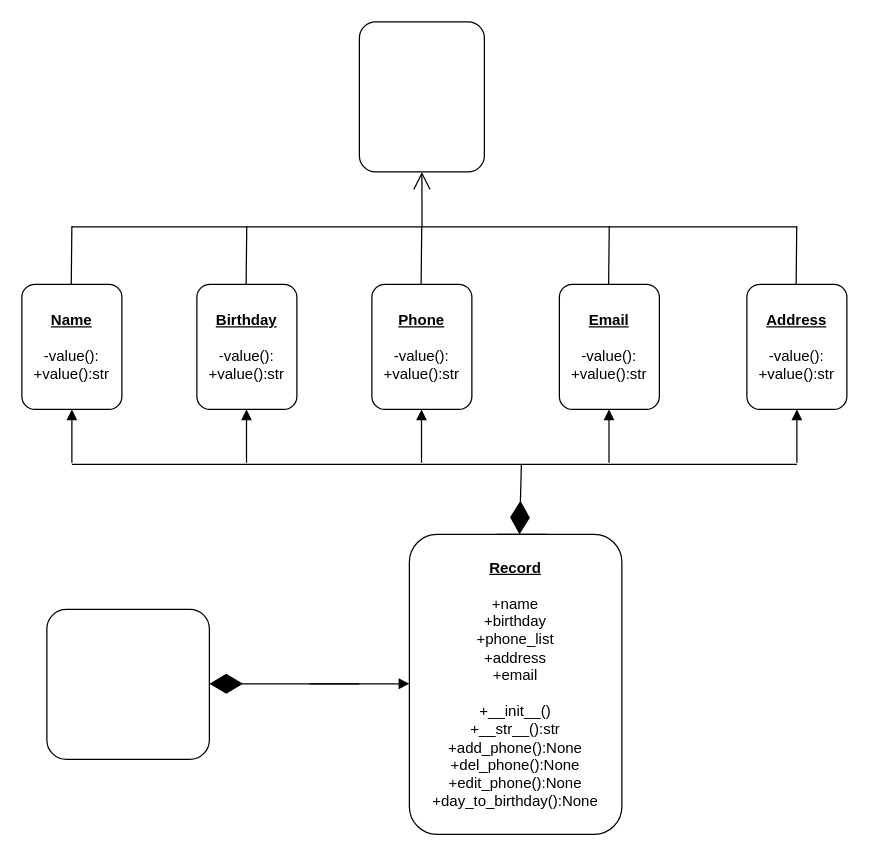
Image size: 869x856. Some labels were removed from this diagram. Here are the shapes that lost their labels. From the top down, the centre of each, then its label:
At pixel 421 96: "Field -value:None +value +__repr__():str +__str__():str".
At pixel 127 683: "AddressBook +data +__str__() +add_record():None +iterator()".
